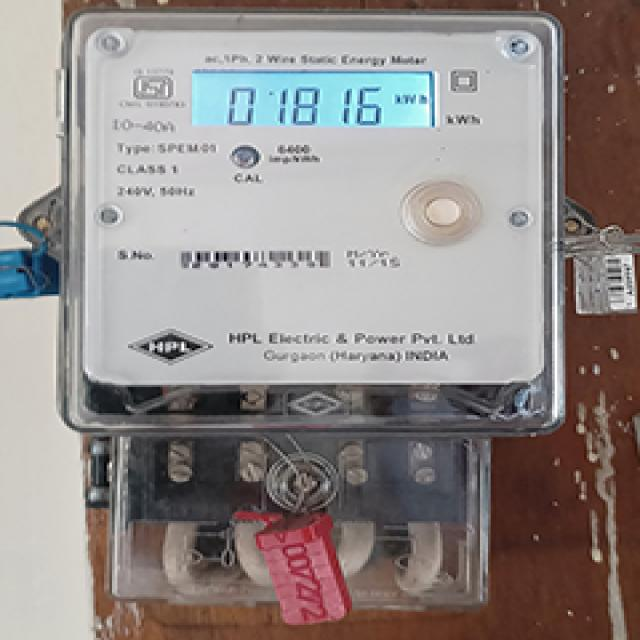display: (192, 68, 454, 133)
